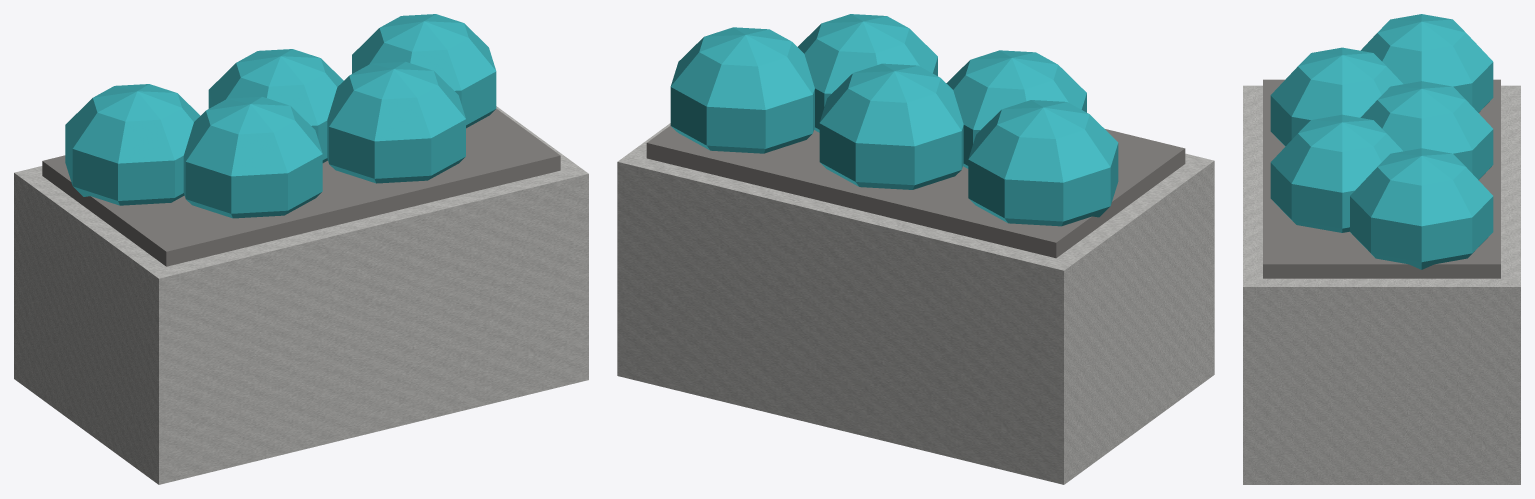
The model's file is skate-park-and-street-sports-concrete-planter-03306e4f__33555.glb.
The picture shows the model from 3 angles, left to right: view 1: azimuth 30°, elevation 25°; view 2: azimuth 150°, elevation 25°; view 3: azimuth 270°, elevation 25°; orthographic projection. The views are drawn at different scales.
Visible parts, largest first — view 1: concrete-planter-concrete, concrete-planter-teal, concrete-planter-asphalt; view 2: concrete-planter-concrete, concrete-planter-teal, concrete-planter-asphalt; view 3: concrete-planter-concrete, concrete-planter-teal, concrete-planter-asphalt.
Boxes of the visible parts, left/top/right/bottom form: concrete-planter-concrete: left=14, top=106, right=588, bottom=484; concrete-planter-teal: left=65, top=14, right=496, bottom=218; concrete-planter-asphalt: left=42, top=109, right=560, bottom=266; concrete-planter-concrete: left=617, top=123, right=1214, bottom=484; concrete-planter-teal: left=670, top=14, right=1118, bottom=226; concrete-planter-asphalt: left=646, top=125, right=1185, bottom=258; concrete-planter-concrete: left=1243, top=85, right=1520, bottom=484; concrete-planter-teal: left=1270, top=14, right=1493, bottom=269; concrete-planter-asphalt: left=1263, top=79, right=1500, bottom=278.
Bounding box in the file's own units: 1.2 × 0.8215 × 0.7.
Materials: 4 (2 with a texture image).
